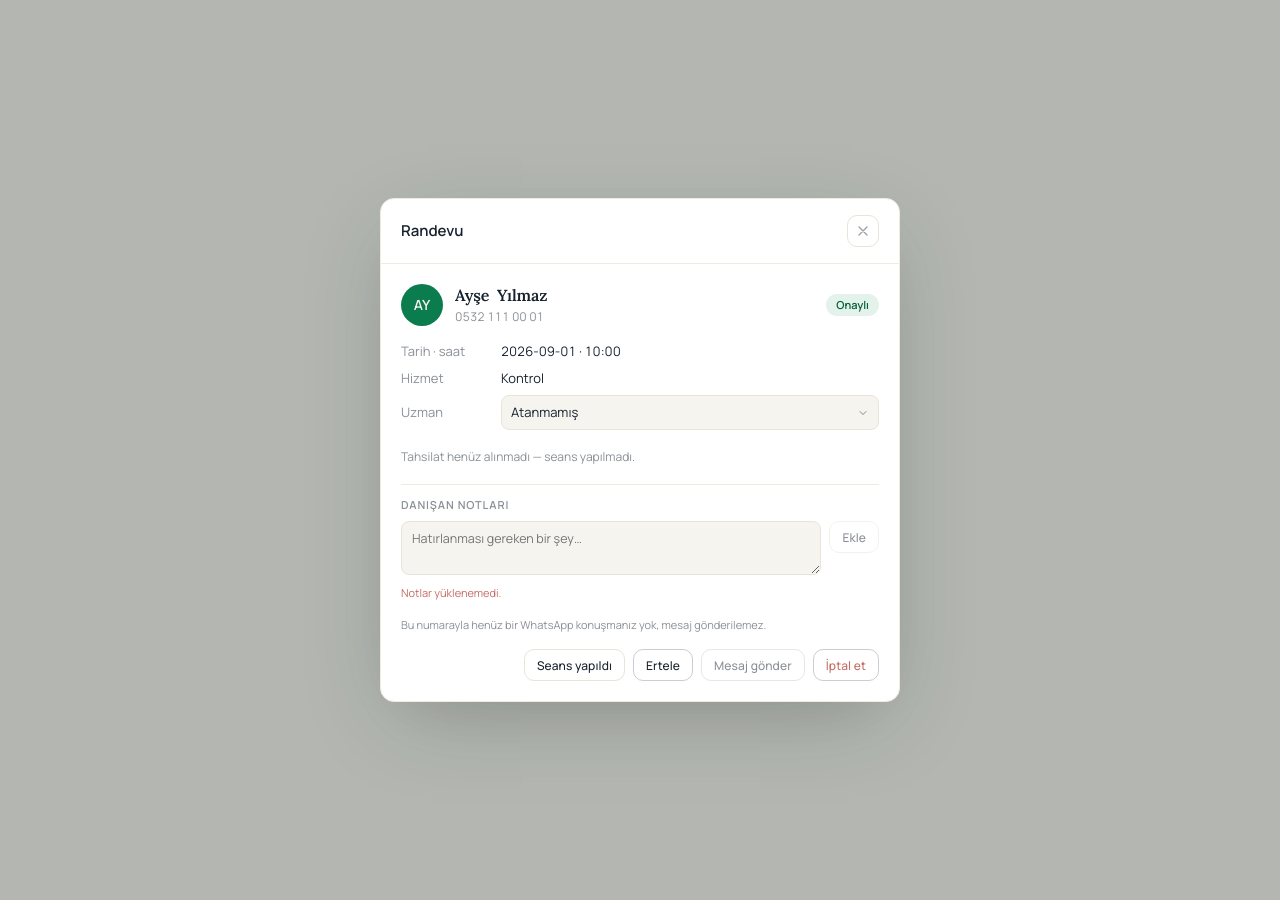
AppointmentDetail · seansı kapatma › tutarı hizmetin fiyatından öneriyor
Step 1. Click the button "Seans yapıldı" → {"x": 574, "y": 665}, box [524, 649, 625, 681]
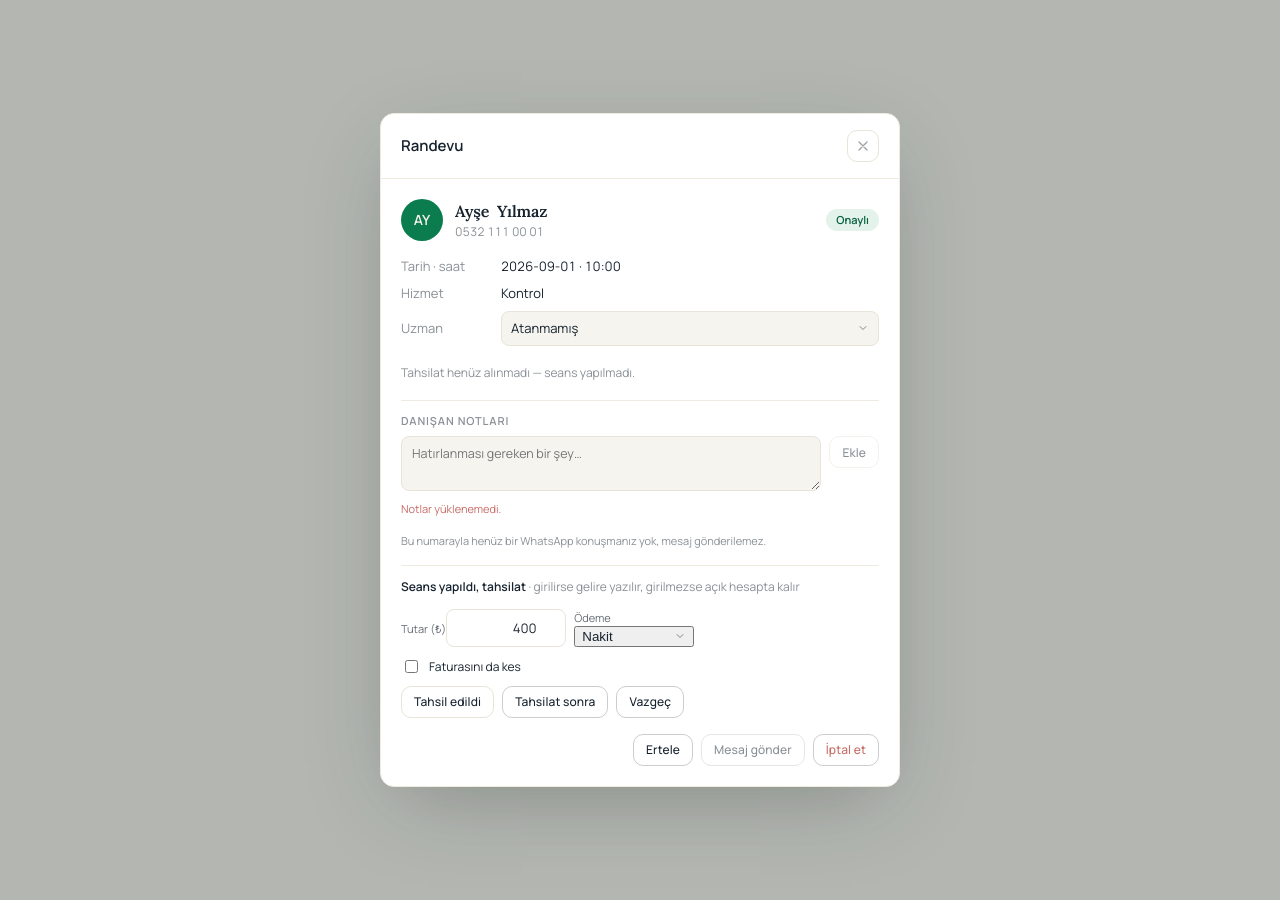
Result: the number field showing "400" is shown at [446, 609, 566, 647]
